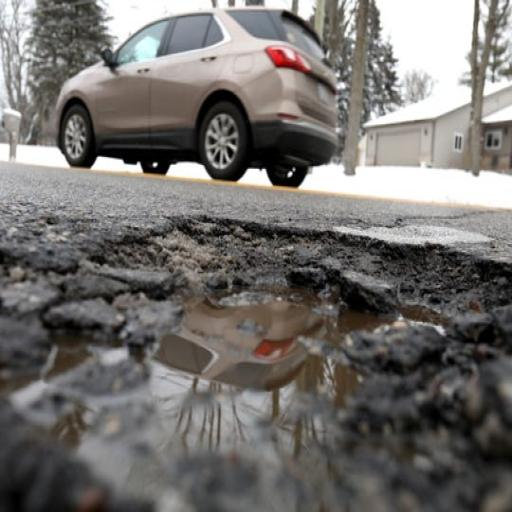pothole: (73, 238, 420, 427)
